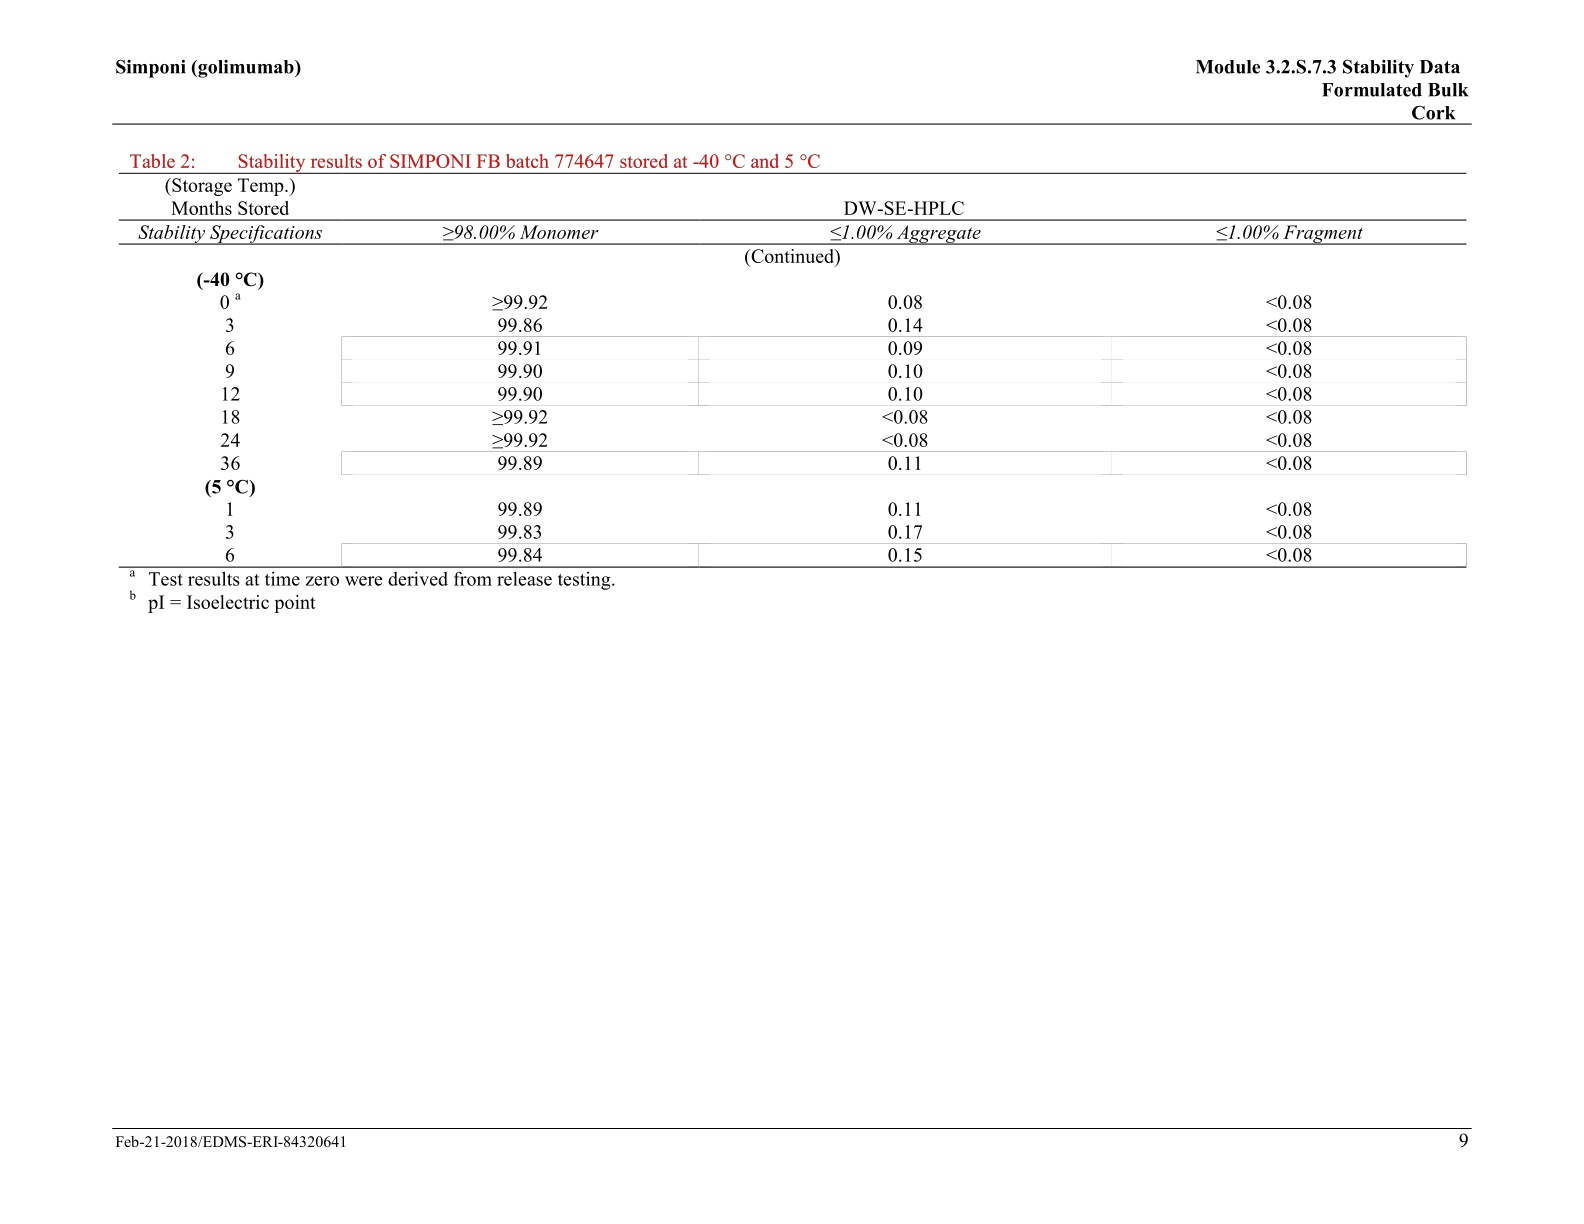partial_lined_merged_cells: (118, 172, 1470, 572)
